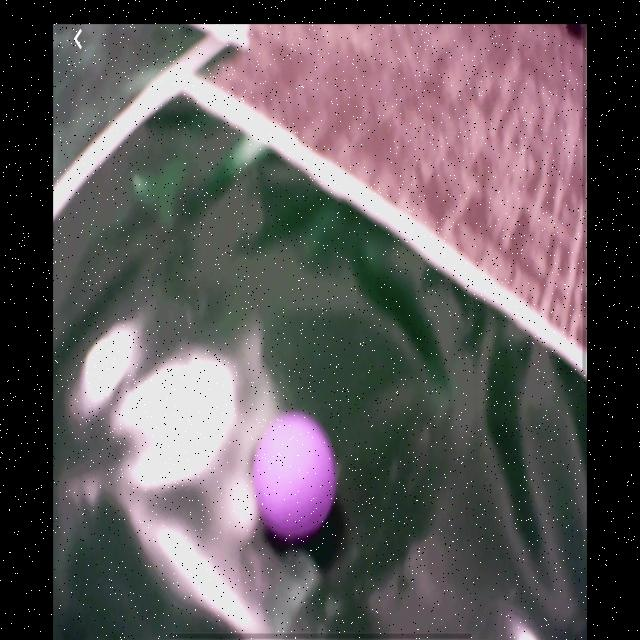ball: (252, 411, 339, 544)
